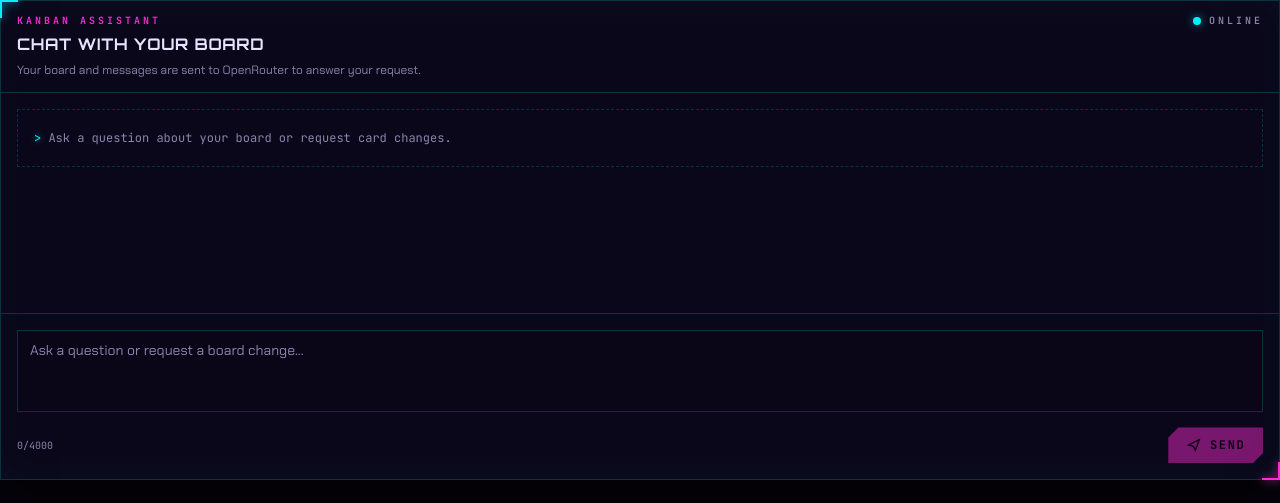
Scenario: refreshes after a conflict and explains that the AI update was not applied
This screenshot has width=1280, height=503.
Type "Make an update" into the text box named "Message the assistant". click: (640, 371)
box: [17, 330, 1263, 412]
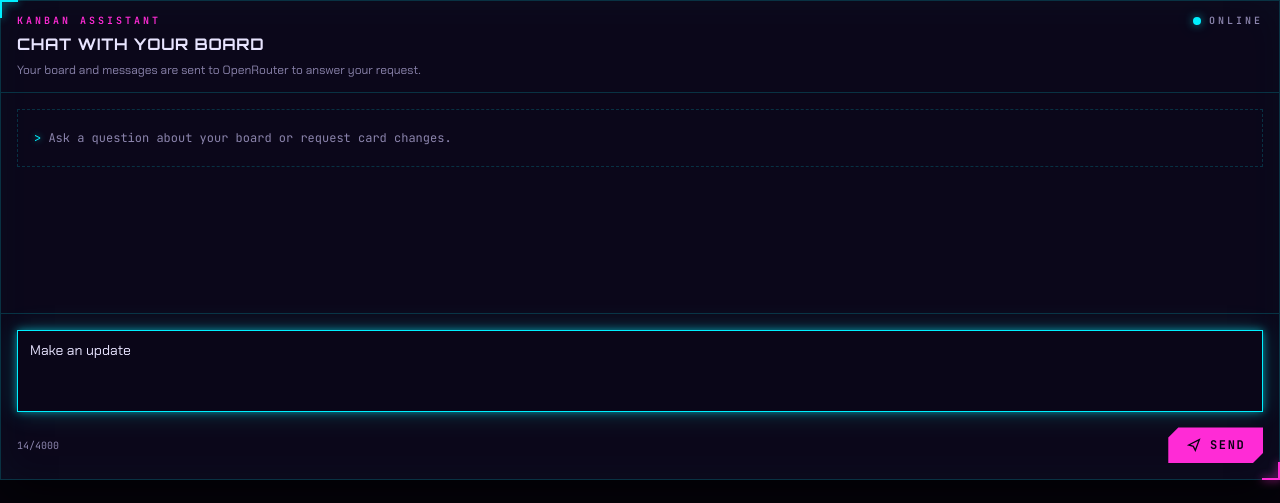
Click the button "Send". click: (1216, 445)
box: [1168, 427, 1263, 463]
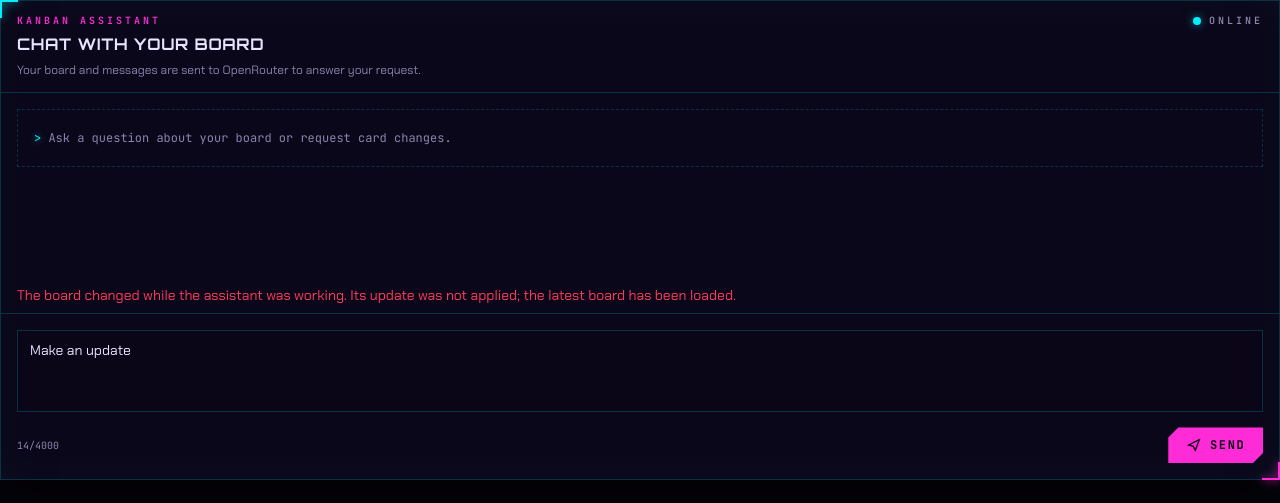
Result: the message shows "Its update was not applied" at [17, 286, 736, 304]
